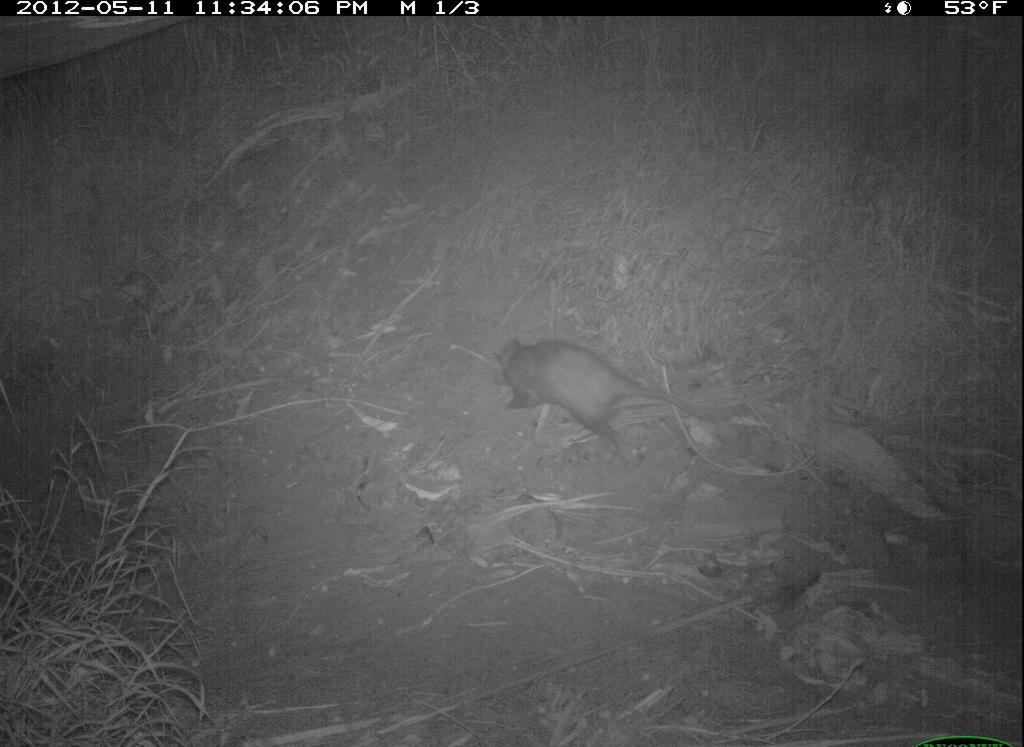opossum: (484, 331, 735, 474)
